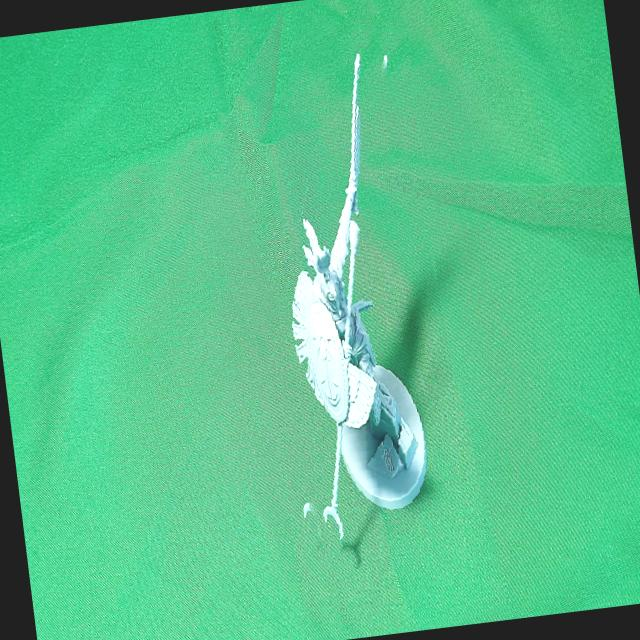isis: (212, 0, 494, 640)
